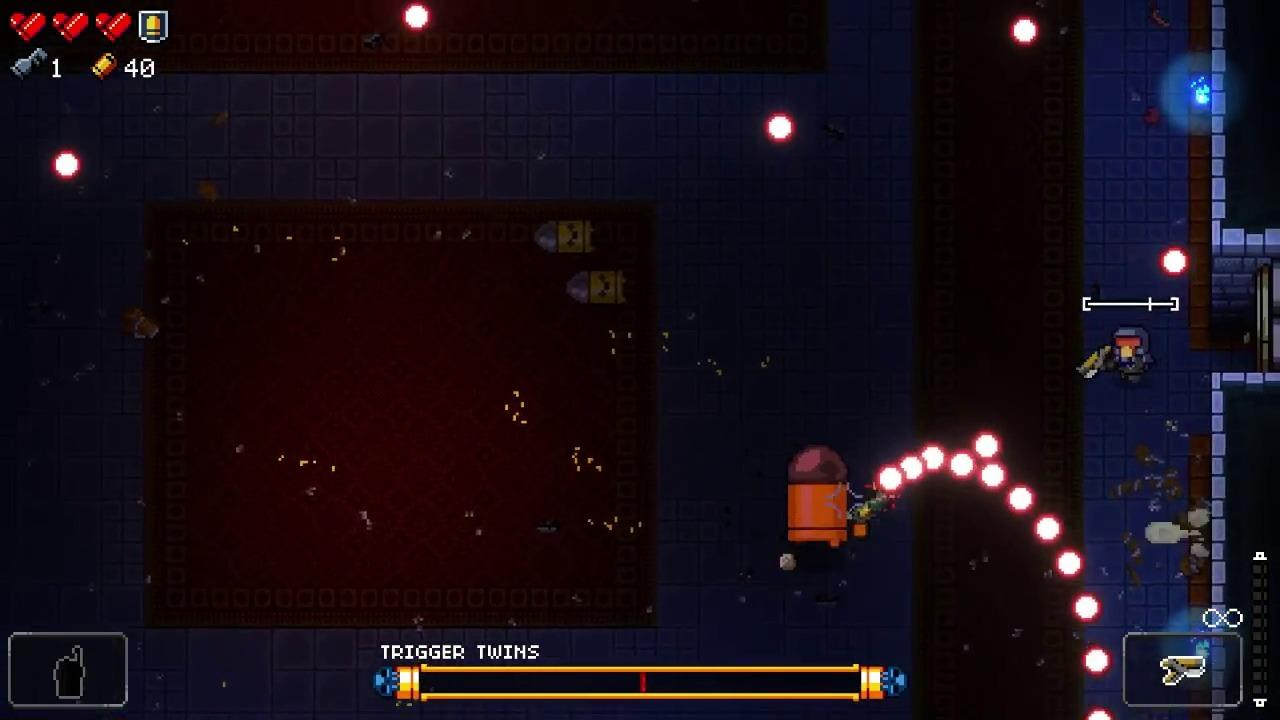boss_smiley: (787, 444, 847, 550)
bullet: (1007, 12, 1039, 48), (50, 148, 80, 181), (1007, 483, 1037, 515), (402, 0, 431, 32), (1055, 549, 1085, 579), (973, 431, 1001, 463), (1072, 588, 1099, 621), (898, 456, 927, 486), (918, 442, 947, 472), (766, 113, 794, 144), (1160, 247, 1188, 278), (948, 452, 977, 481), (1034, 515, 1063, 544), (877, 464, 905, 493), (1084, 647, 1111, 676), (979, 464, 1008, 490), (1084, 707, 1115, 720)
dead_bullet_kin: (563, 269, 627, 305), (531, 222, 595, 255)
locked_door: (1260, 258, 1280, 373)
player: (1110, 325, 1151, 382)
